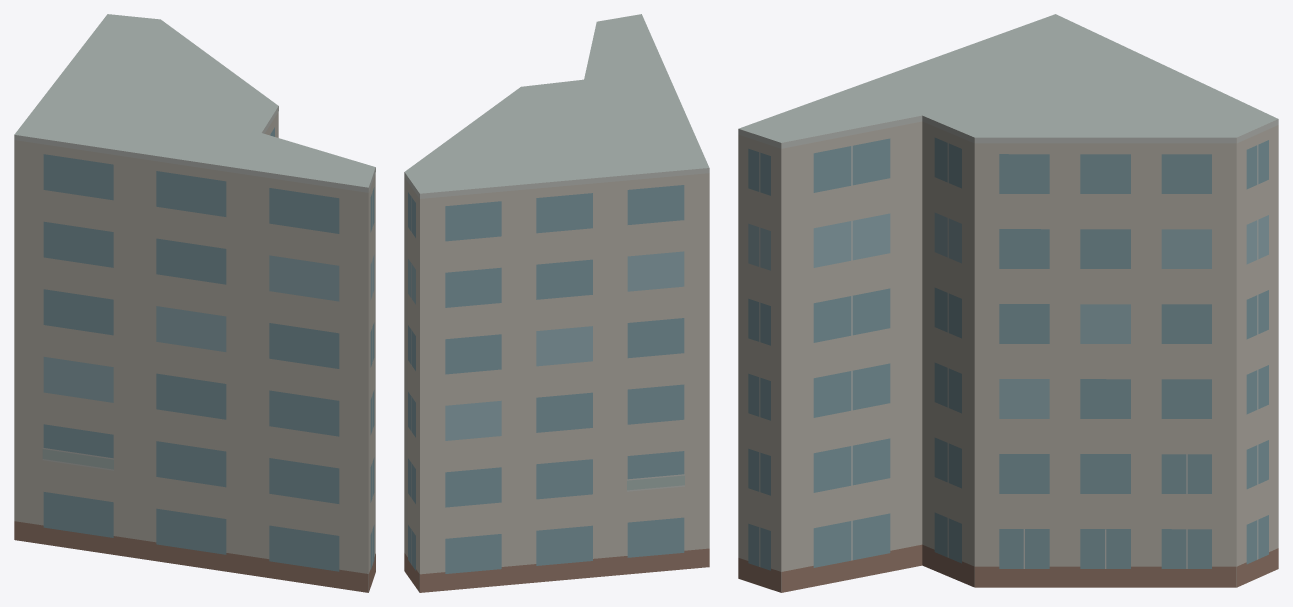
File: survey-upis-32643317.glb
3 views of the same model, side by side, from view 1: azimuth 30°, elevation 25°; view 2: azimuth 150°, elevation 25°; view 3: azimuth 270°, elevation 25° (orthographic). The views are drawn at different scales.
Visible parts, largest first — view 1: survey-upis-32643317.tmp; view 2: survey-upis-32643317.tmp; view 3: survey-upis-32643317.tmp.
Part boxes in pixels (x1,y1,x2,y2): survey-upis-32643317.tmp: [14, 14, 375, 592]; survey-upis-32643317.tmp: [404, 14, 709, 592]; survey-upis-32643317.tmp: [738, 14, 1278, 592].
Bounding box in the file's own units: 11.5 × 18.7 × 20.36.
